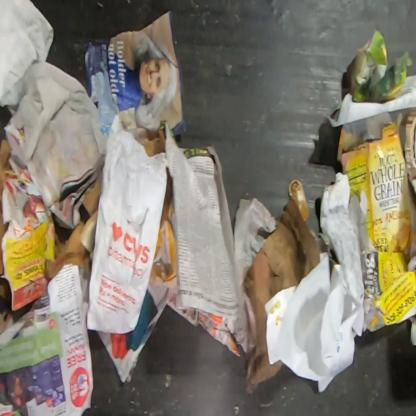cardboard: (337, 111, 415, 255), (395, 107, 415, 198), (288, 180, 310, 222)
